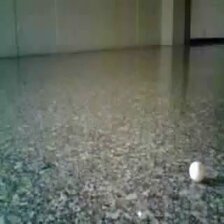w: (189, 161, 206, 181)
